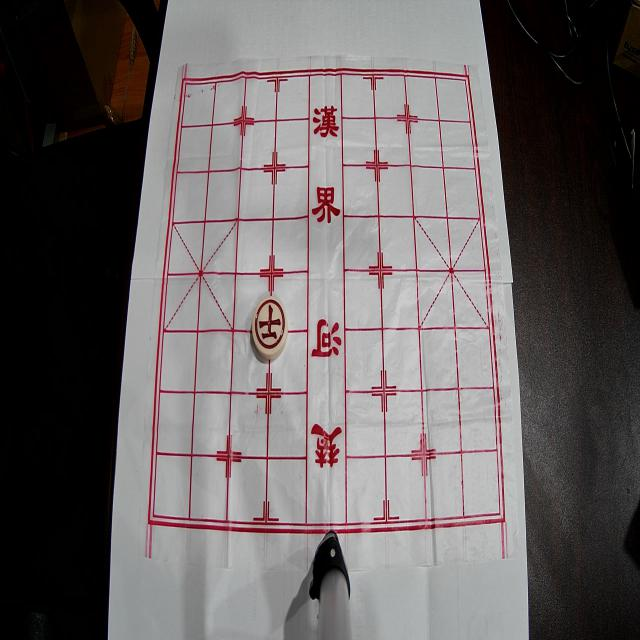red-guard: (252, 297, 288, 359)
